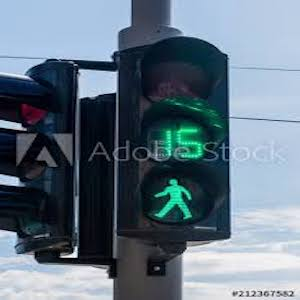green: (151, 171, 198, 220)
